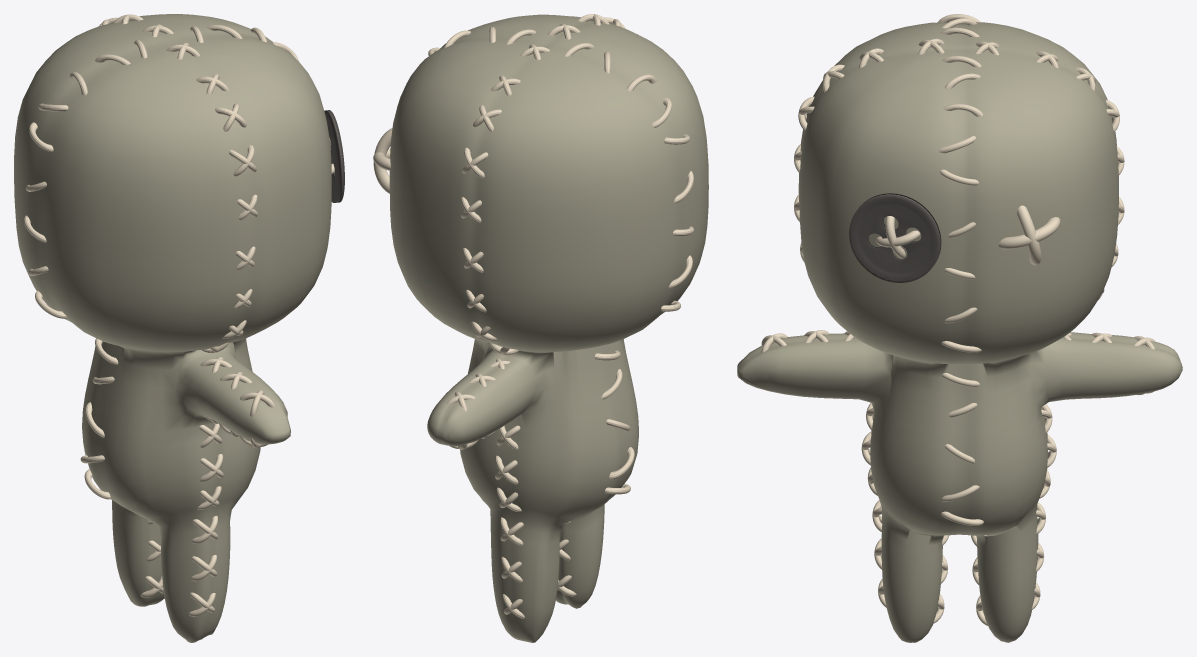
The model's file is Voodoo-Dool.glb.
3 views of the same model, side by side, from view 1: azimuth 30°, elevation 25°; view 2: azimuth 150°, elevation 25°; view 3: azimuth 270°, elevation 25° (orthographic).
Parts seen in each view (by area): view 1: polySurface1, Torus, Cylinder; view 2: polySurface1, Torus; view 3: polySurface1, Torus, Cylinder.
Part boxes in pixels (<box>): polySurface1: <box>14,14,331,642</box>; Torus: <box>24,14,334,616</box>; Cylinder: <box>324,110,344,202</box>; polySurface1: <box>389,14,708,642</box>; Torus: <box>373,14,693,618</box>; polySurface1: <box>737,22,1182,642</box>; Torus: <box>761,14,1155,625</box>; Cylinder: <box>849,193,941,282</box>.
Size of the model in its own units: 1.9 by 3.75 by 2.52.
